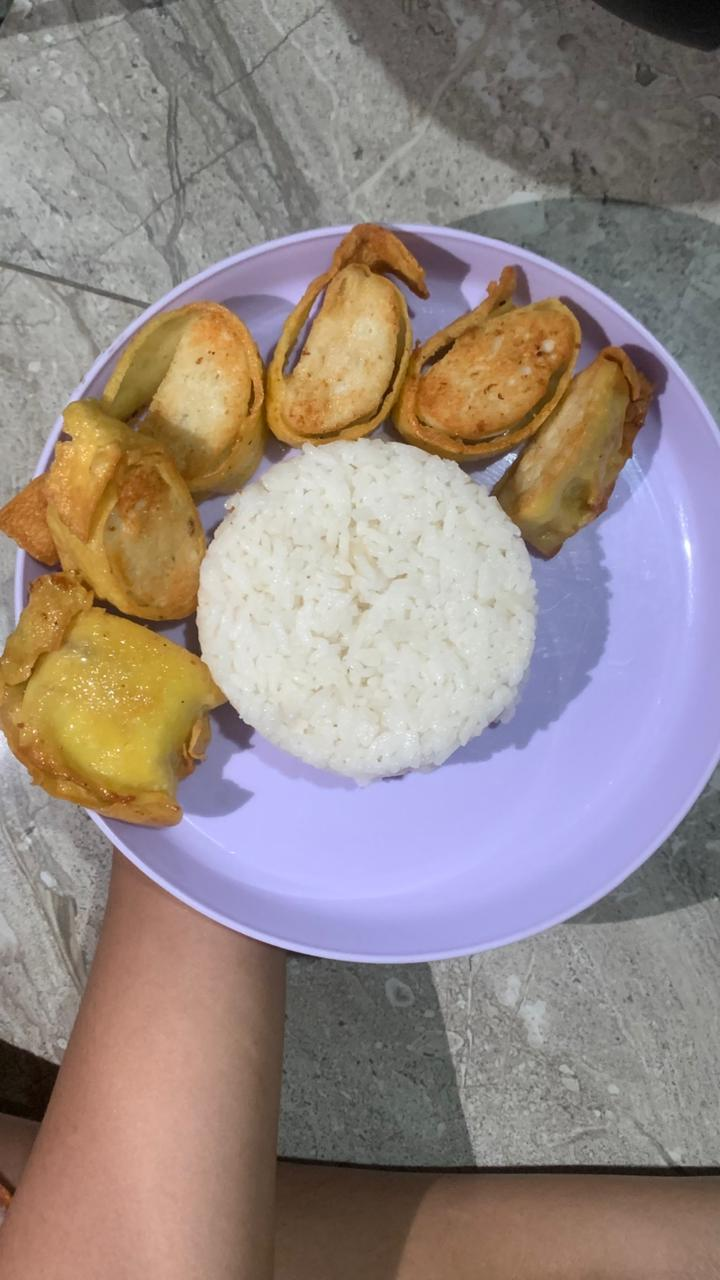kacang_legume: (23, 590, 245, 835)
makanan_berpati: (238, 493, 498, 767)
